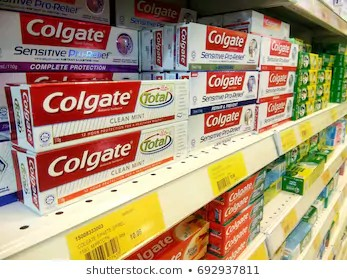colgate-medium: (18, 118, 191, 218), (4, 70, 187, 155), (174, 23, 265, 77), (193, 104, 256, 158), (189, 69, 263, 113), (259, 98, 295, 132), (266, 41, 302, 69), (264, 68, 296, 97)
